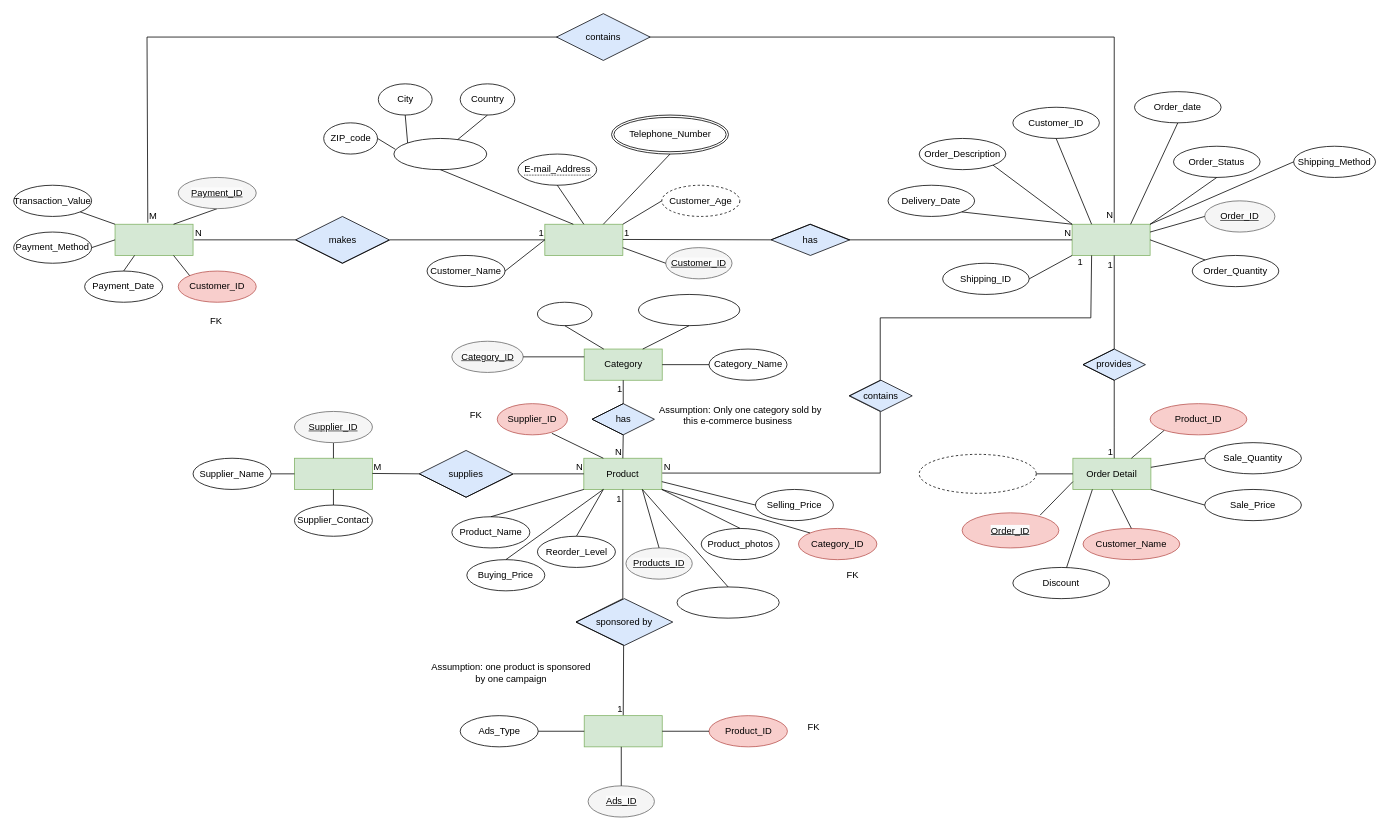
The diagram is 1389 pixels wide and 831 high, and some of its shapes have lost their labels. Here are the shapes that lost their labels. From the top down, the centre of each, then its label:
[440,154]: Customer_Address
[153,239]: Transaction
[583,239]: Customer
[1110,239]: Order
[564,313]: Picture
[689,310]: Category_Description
[333,473]: Supplier
[977,473]: Total_Amount_Sale
[727,602]: Product_Description
[622,731]: Advertisement
